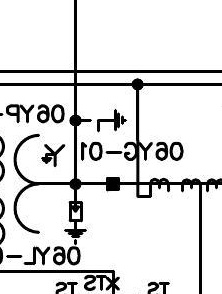115_gs: (87, 108, 128, 133)
115_la: (63, 201, 88, 246)
